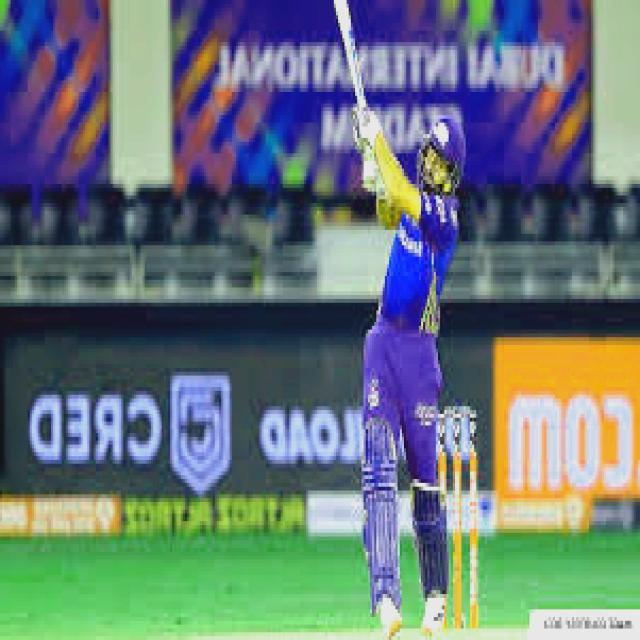toe: (330, 0, 353, 19)
